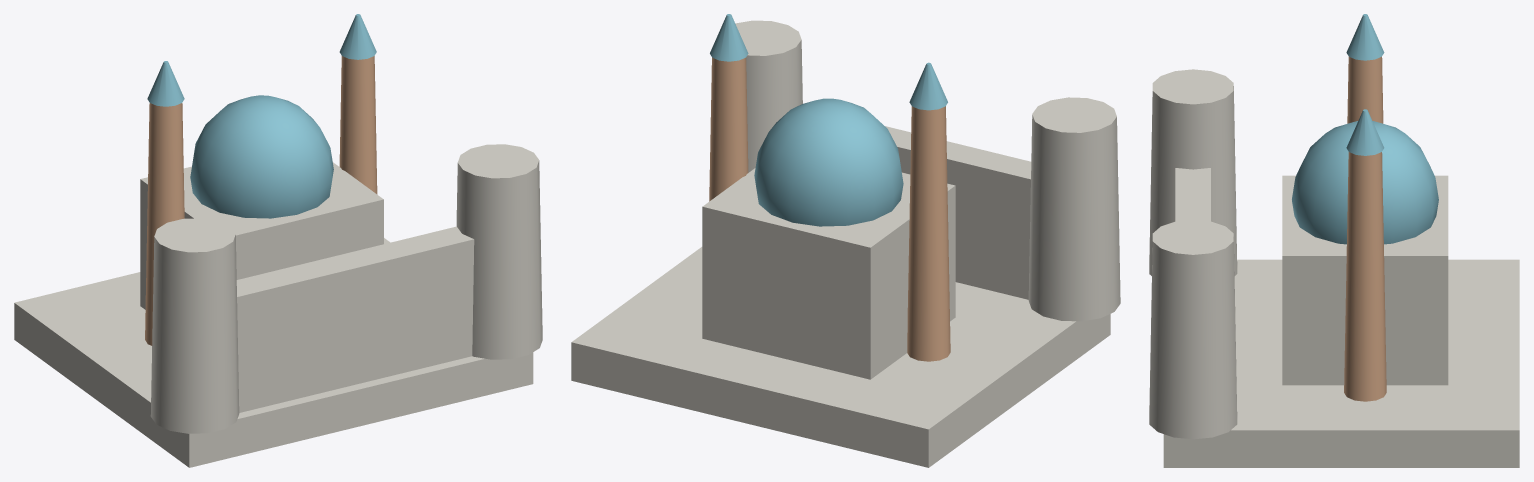
Rendered from city_shusha.glb.
The picture shows the model from 3 angles, left to right: view 1: azimuth 30°, elevation 25°; view 2: azimuth 150°, elevation 25°; view 3: azimuth 270°, elevation 25°; orthographic projection. The views are drawn at different scales.
Visible parts, largest first — view 1: city_shusha; view 2: city_shusha; view 3: city_shusha.
Part boxes in pixels (left/top/right/bottom): city_shusha: left=14, top=14, right=542, bottom=467; city_shusha: left=571, top=14, right=1120, bottom=467; city_shusha: left=1149, top=14, right=1519, bottom=467.
Bounding box in the file's own units: 3.76 × 2.97 × 3.12.
